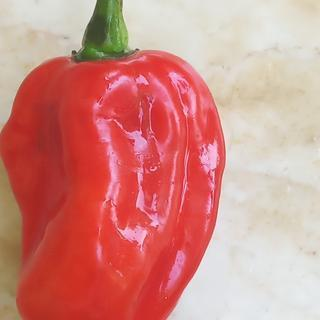Grade-A: (0, 44, 231, 317)
